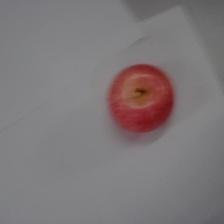red: (106, 61, 175, 134)
